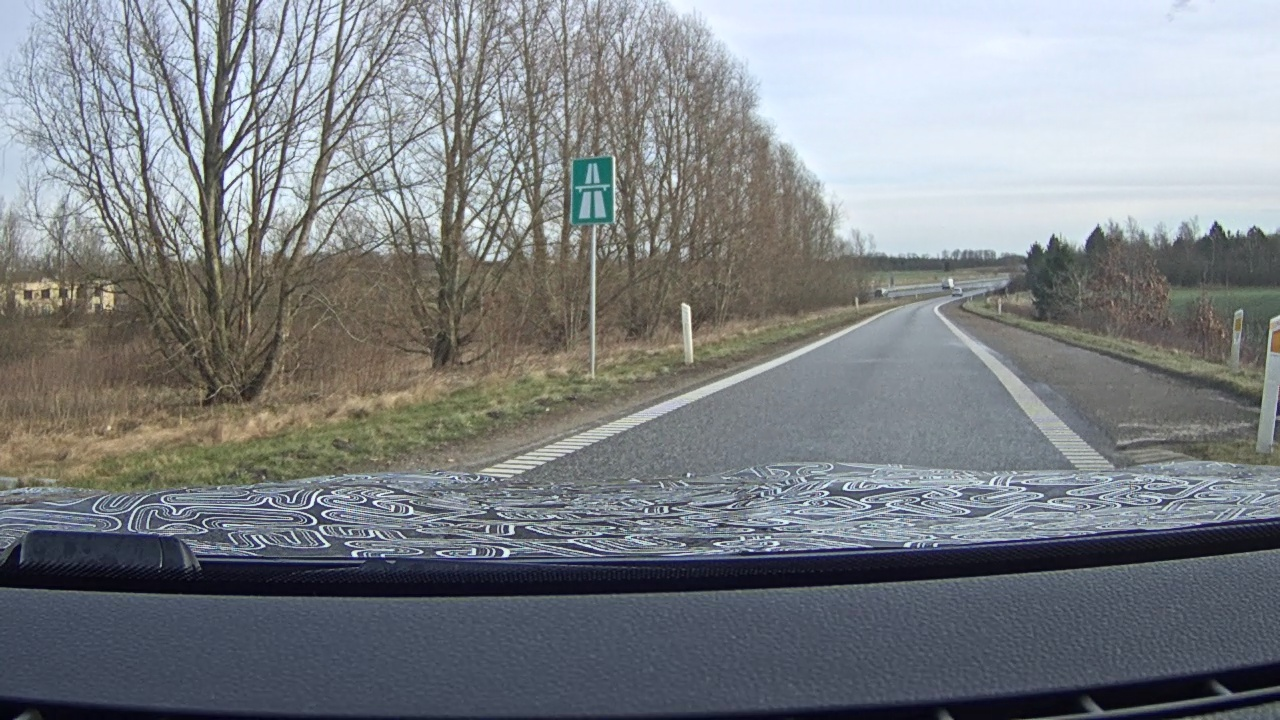Motorway_Begin: (569, 156, 615, 225)
